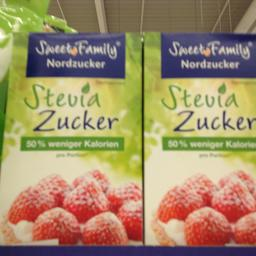sugar: (0, 30, 143, 244), (140, 30, 254, 246)
